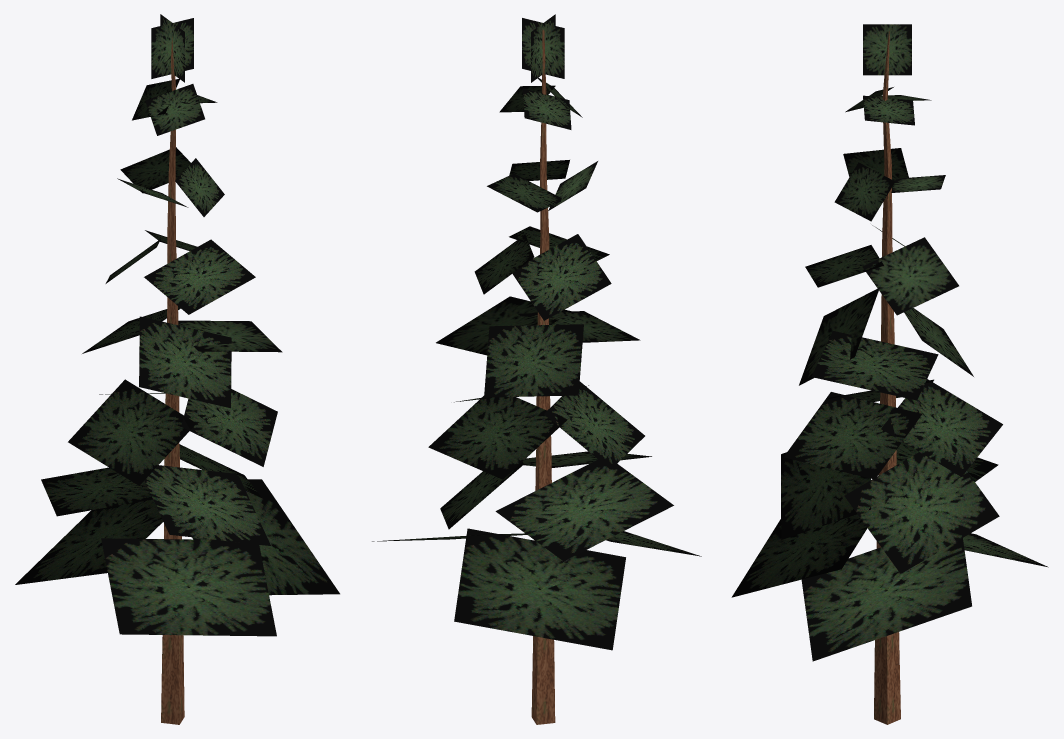
Rendered from Pine_5_LOD2.gltf.
3 views of the same model, side by side, from view 1: azimuth 30°, elevation 25°; view 2: azimuth 150°, elevation 25°; view 3: azimuth 270°, elevation 25° (orthographic).
Parts seen in each view (by area): view 1: Pine_5_LOD2; view 2: Pine_5_LOD2; view 3: Pine_5_LOD2.
Part boxes in pixels (bbox=[...]): Pine_5_LOD2: bbox=[15, 14, 339, 724]; Pine_5_LOD2: bbox=[372, 14, 701, 724]; Pine_5_LOD2: bbox=[731, 24, 1048, 724].
Bounding box in the file's own units: 8.3 × 21.67 × 9.
2 materials, 2 textured.
